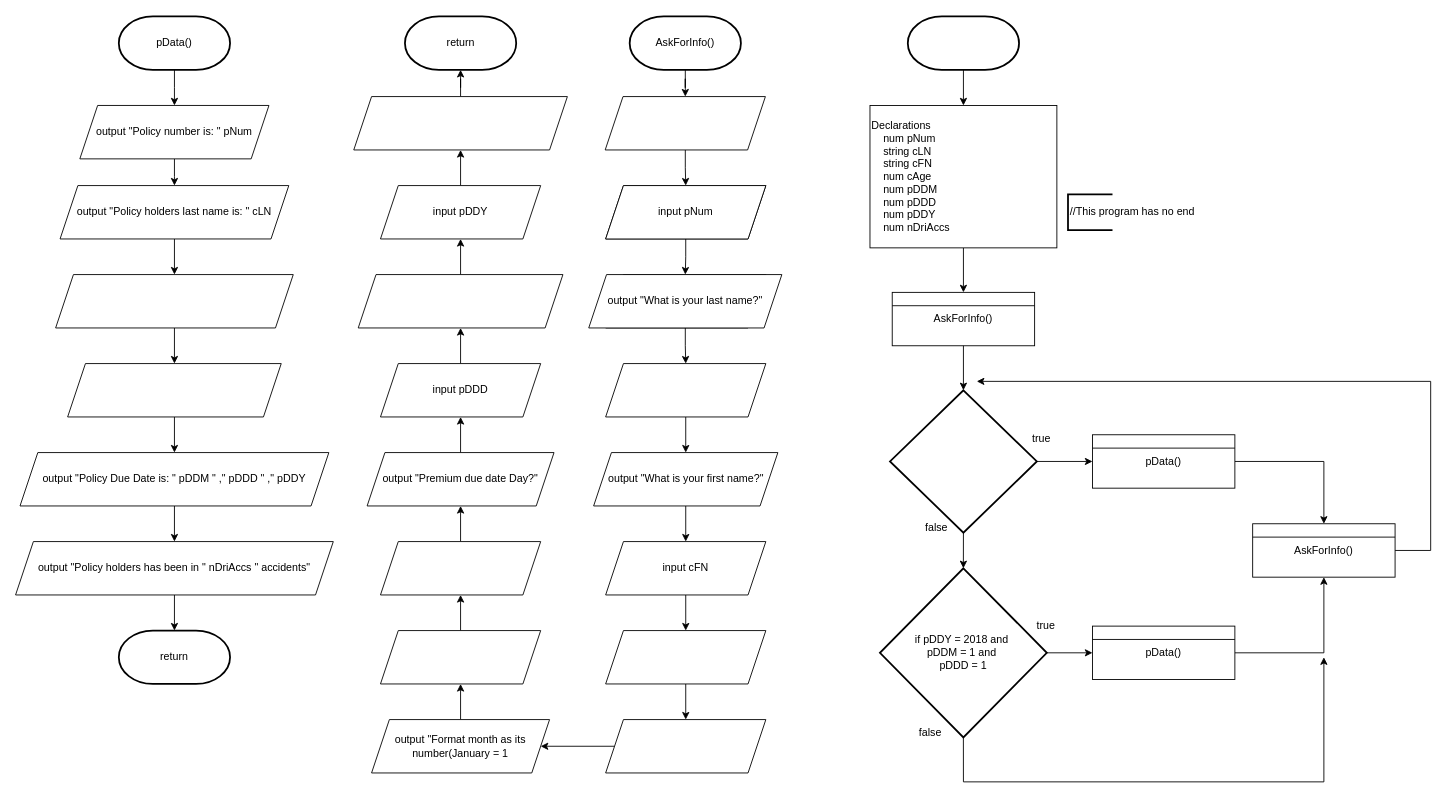
Some shapes in this 1453 by 805 pixel diagram are drawn without their labels. Each missing label, with the box of its shape:
if pDDY < 2018: (889, 389, 1037, 533)
input cAge: (605, 719, 766, 773)
input cLN: (605, 363, 766, 417)
input pDDM: (380, 541, 541, 595)
output "How many driving accidents have you had in the last 3 years?": (353, 96, 567, 150)
output "Policy holders first name is: " cFN: (55, 274, 293, 328)
output "Policy holders is " cAge " old": (67, 363, 281, 417)
output "Premium due date Month?": (380, 630, 541, 684)
output "Premium due date Year?": (357, 274, 563, 328)
output "What is your age?": (605, 630, 766, 684)
output "What is your policy number?": (604, 96, 765, 150)
start: (906, 15, 1019, 70)
